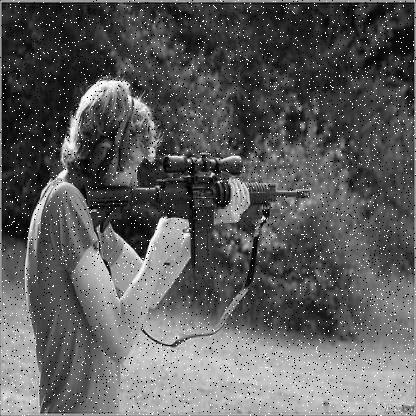rifle: (78, 132, 350, 282)
